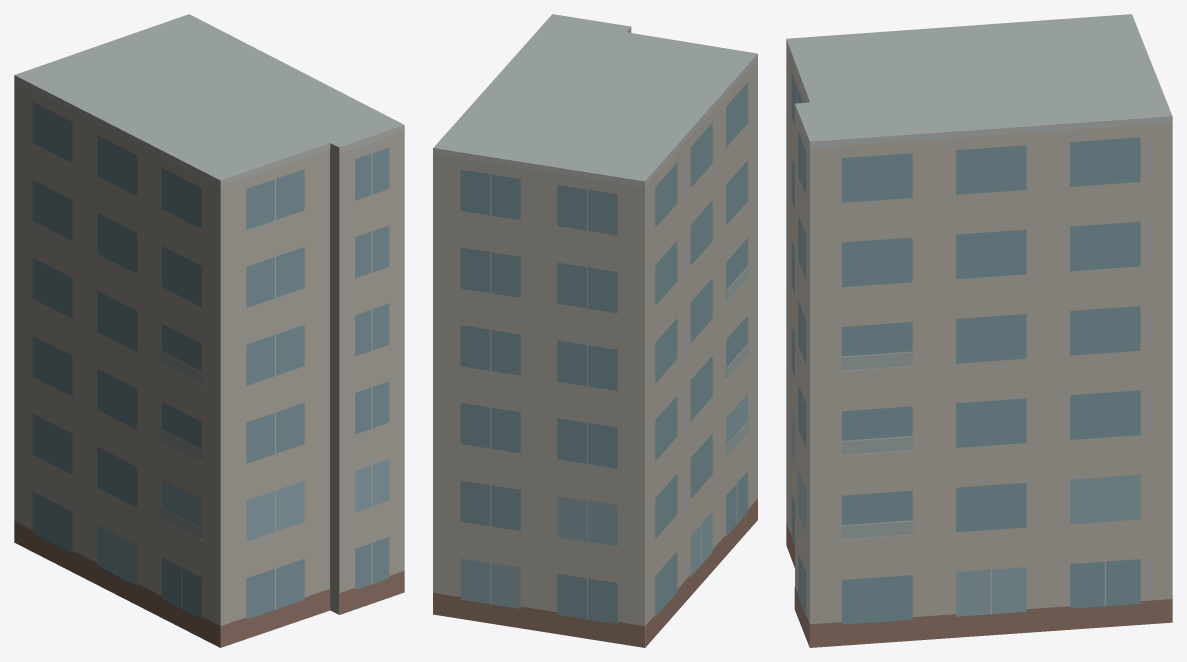
The model's file is survey-upis-32497217.glb.
3 renders of one model, left to right at view 1: azimuth 30°, elevation 25°; view 2: azimuth 150°, elevation 25°; view 3: azimuth 270°, elevation 25°, orthographic. The views are drawn at different scales.
Parts seen in each view (by area): view 1: survey-upis-32497217.tmp; view 2: survey-upis-32497217.tmp; view 3: survey-upis-32497217.tmp.
Part boxes in pixels (bbox=[...]): survey-upis-32497217.tmp: bbox=[14, 14, 404, 647]; survey-upis-32497217.tmp: bbox=[433, 14, 757, 647]; survey-upis-32497217.tmp: bbox=[786, 14, 1172, 647].
Bounding box in the file's own units: 10.1 × 18.65 × 12.91.
